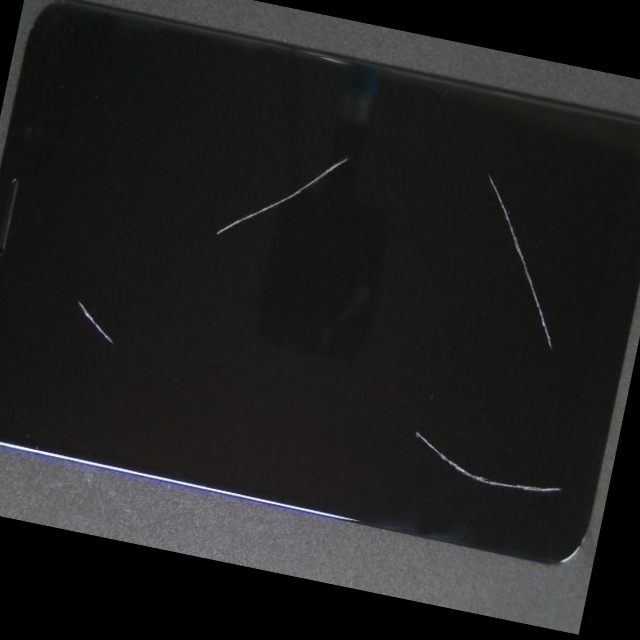scratch: (320, 260, 640, 635), (210, 4, 473, 275)
